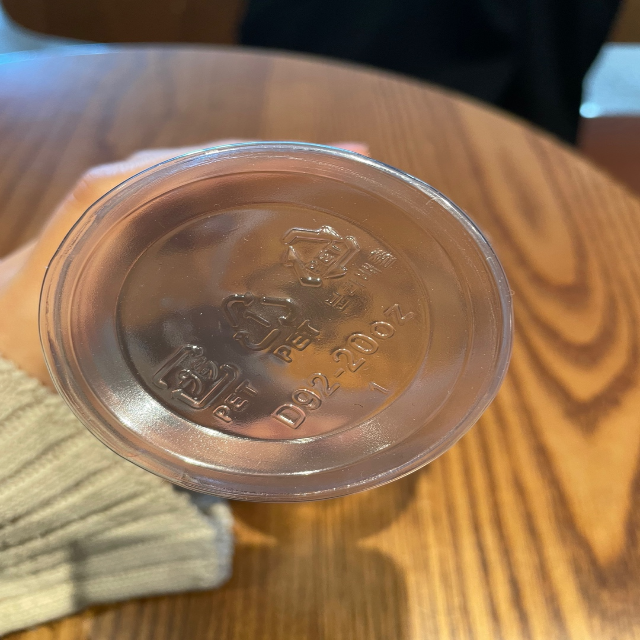pet: (284, 219, 396, 314), (150, 336, 256, 423), (217, 289, 319, 365)
